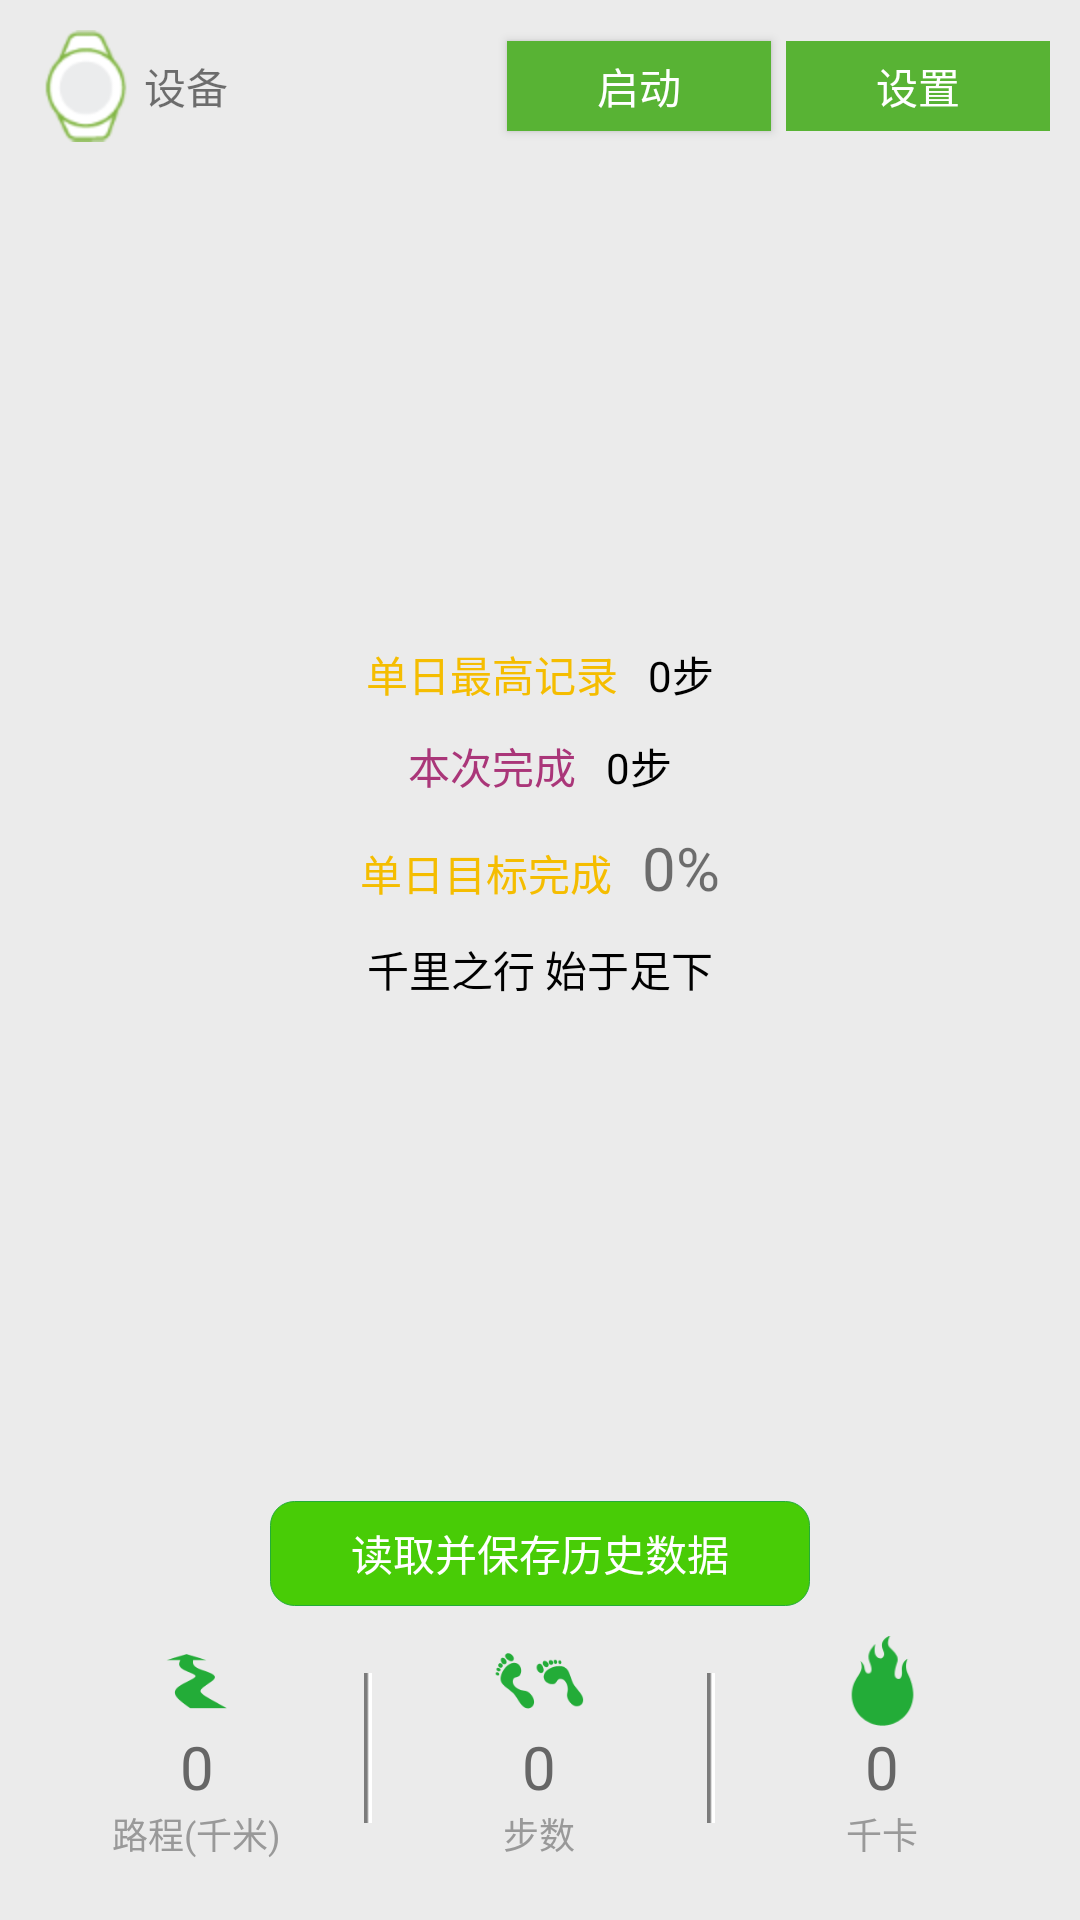

Icons on this 1080×1920 Android screen, each with the point to tap as (x,y):
配件运动: (85,86)
